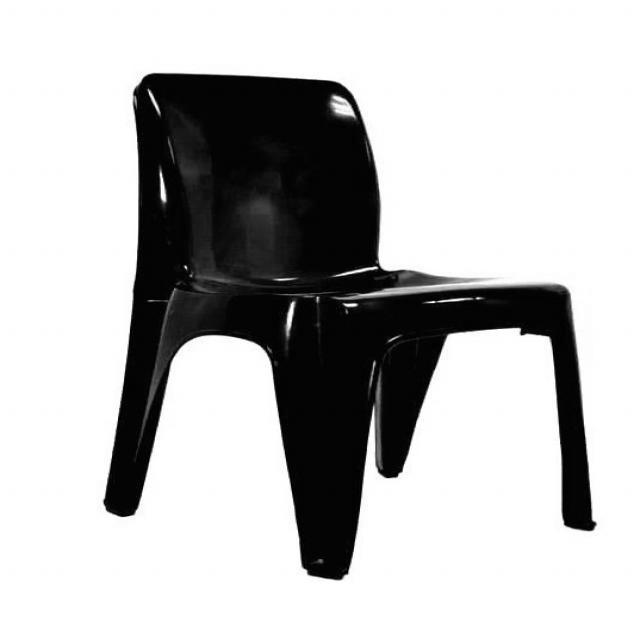chair: (100, 71, 601, 582)
